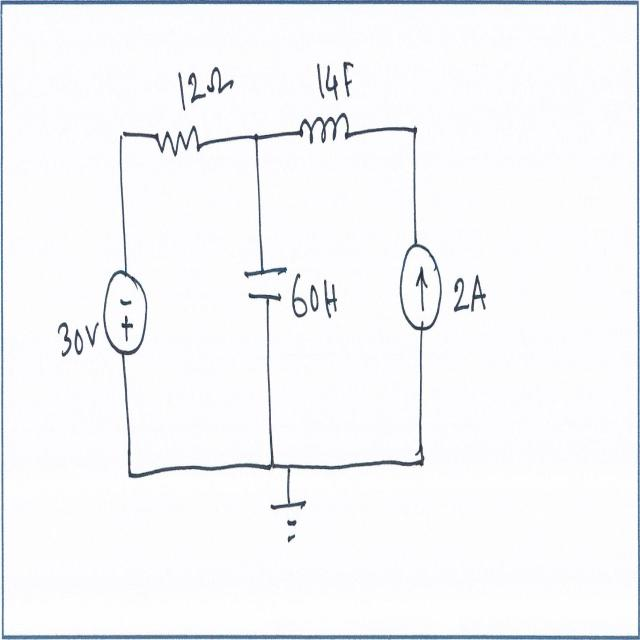capacitor: (241, 260, 289, 310)
current_source: (398, 234, 444, 339)
ground: (270, 496, 310, 544)
inductor: (295, 107, 354, 155)
resistor: (152, 124, 204, 166)
voltage_source: (101, 267, 153, 357)
